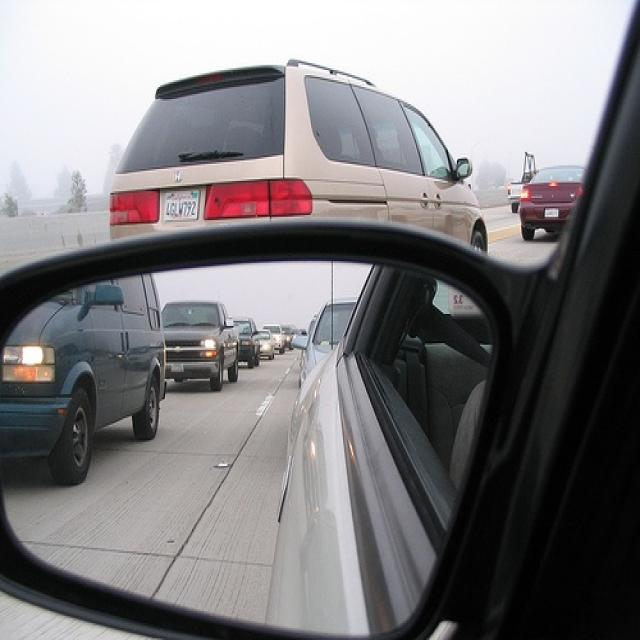car: (105, 54, 490, 258), (1, 268, 169, 488), (160, 299, 241, 394), (291, 297, 362, 404), (517, 162, 589, 241), (229, 316, 263, 368)
